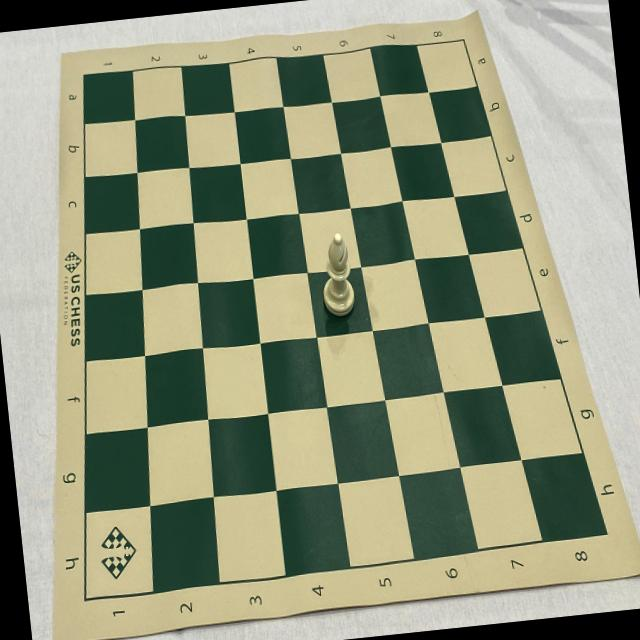white-bishop: (316, 230, 357, 320)
